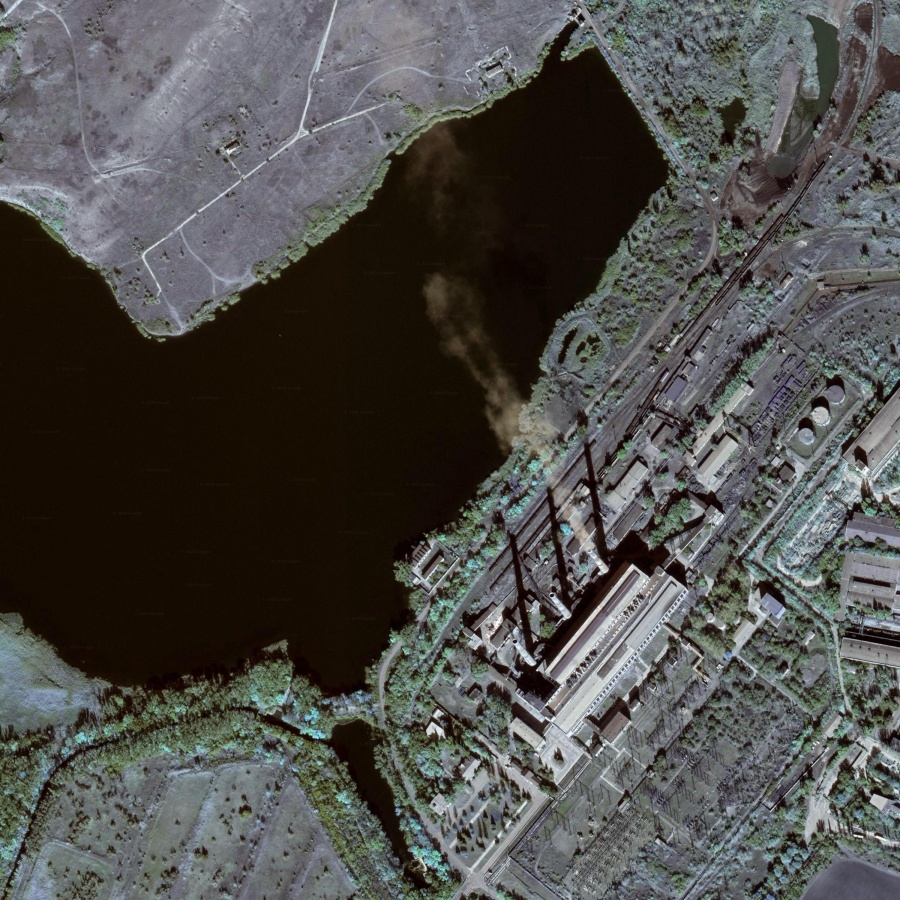PowerPlant: (472, 362, 837, 718)
